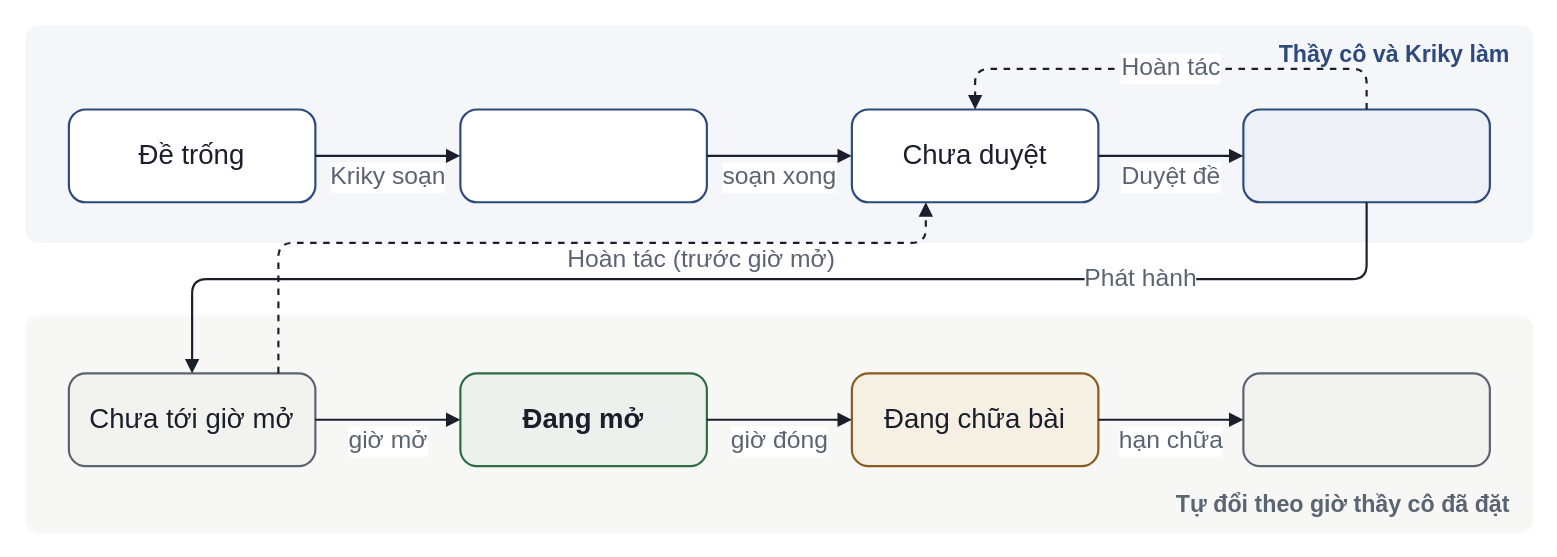
The diagram is 1557 pixels wide and 557 high, and some of its shapes have lost their labels. The box of each missing label's shape, as (x1, y1, x2, y2) in pixels:
Đang soạn: (459, 108, 707, 203)
Đã duyệt: (1242, 108, 1490, 203)
Đã kết thúc: (1242, 372, 1490, 467)
